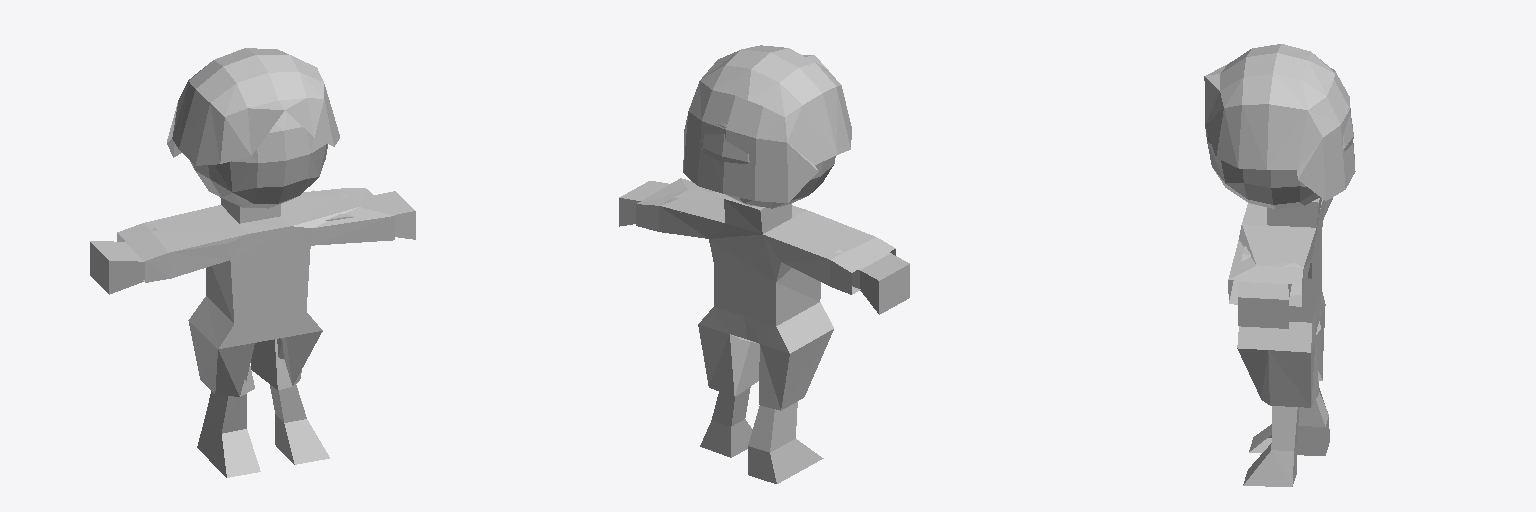
The model's file is Player.obj.
The picture shows the model from 3 angles: view 1: azimuth 30°, elevation 25°; view 2: azimuth 150°, elevation 25°; view 3: azimuth 270°, elevation 25°; orthographic projection.
Parts seen in each view (by area): view 1: 立方体.001; view 2: 立方体.001; view 3: 立方体.001.
Part boxes in pixels (x1,y1,x2,y2): 立方体.001: (90,48,415,477); 立方体.001: (619,45,909,483); 立方体.001: (1204,44,1355,486).
Size of the model in its own units: 2.13 by 2.86 by 0.9652.